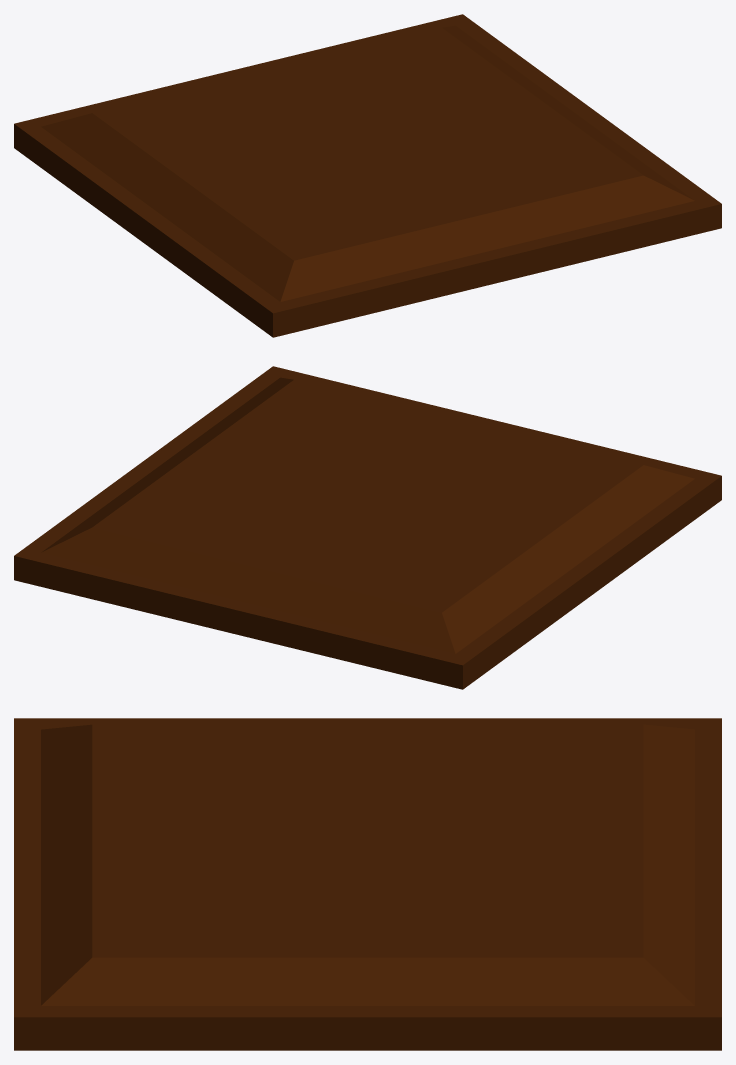
The model's file is Roof.fbx.
3 renders of one model, top to bottom at view 1: azimuth 30°, elevation 25°; view 2: azimuth 150°, elevation 25°; view 3: azimuth 270°, elevation 25°, orthographic. The views are drawn at different scales.
Parts seen in each view (by area): view 1: Cube; view 2: Cube; view 3: Cube.
Boxes of the visible parts, <box> form: Cube: <box>14,14,721,337</box>; Cube: <box>14,366,721,689</box>; Cube: <box>14,718,721,1050</box>.
Size of the model in its own units: 770 by 72.05 by 770.
